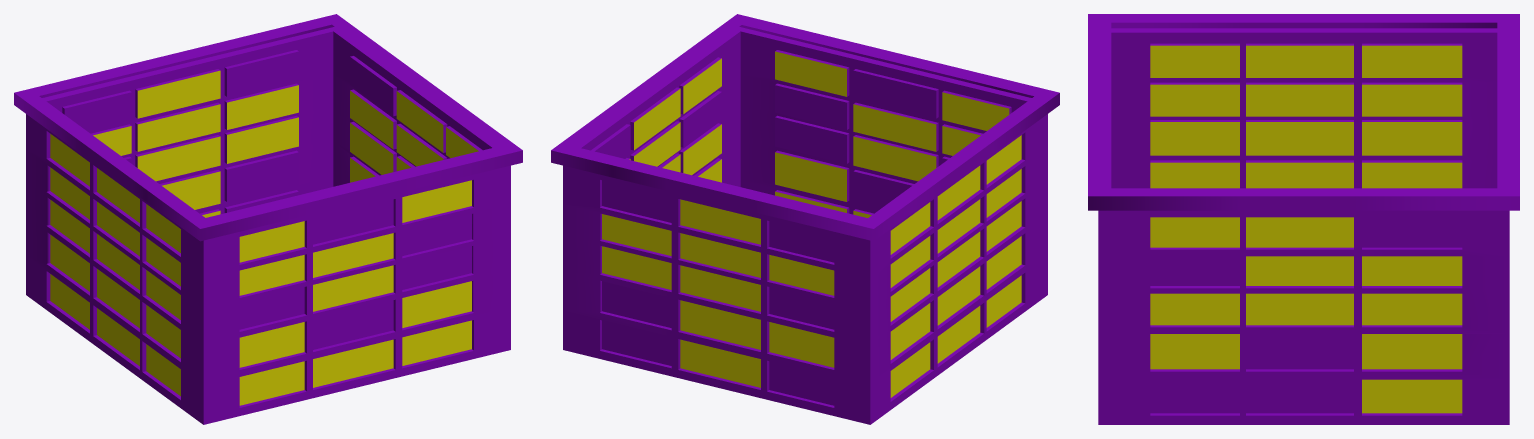
Rendered from Building_Medium_Peice_001.fbx.
The picture shows the model from 3 angles, left to right: view 1: azimuth 30°, elevation 25°; view 2: azimuth 150°, elevation 25°; view 3: azimuth 270°, elevation 25°; orthographic projection. The views are drawn at different scales.
Visible parts, largest first — view 1: Building_Medium_Piece_001; view 2: Building_Medium_Piece_001; view 3: Building_Medium_Piece_001.
Boxes of the visible parts, x1,y1,x2,y2 form: Building_Medium_Piece_001: (14, 14, 522, 424); Building_Medium_Piece_001: (551, 14, 1059, 424); Building_Medium_Piece_001: (1088, 14, 1519, 424).
Bounding box in the file's own units: 6720 × 4000 × 6720.
